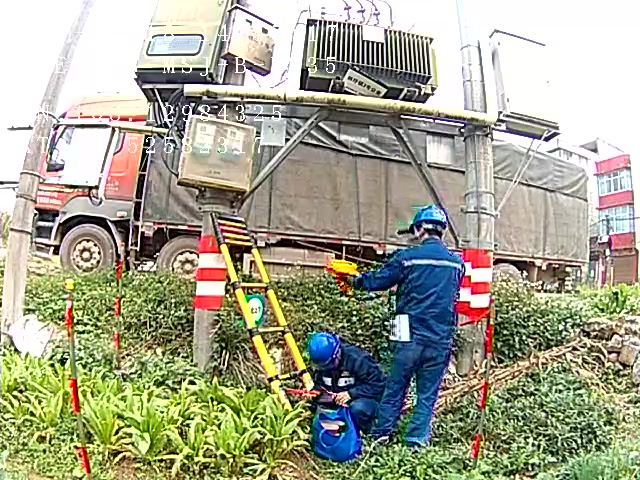halt: (311, 336, 346, 371), (413, 210, 451, 242)
